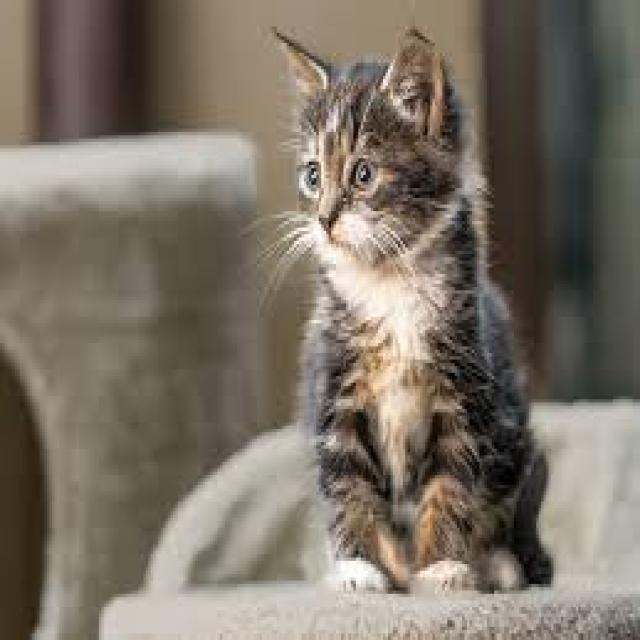cat: (268, 24, 554, 598)
